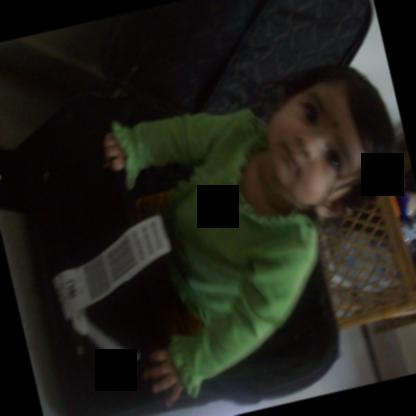suitcase: (14, 98, 341, 416)
